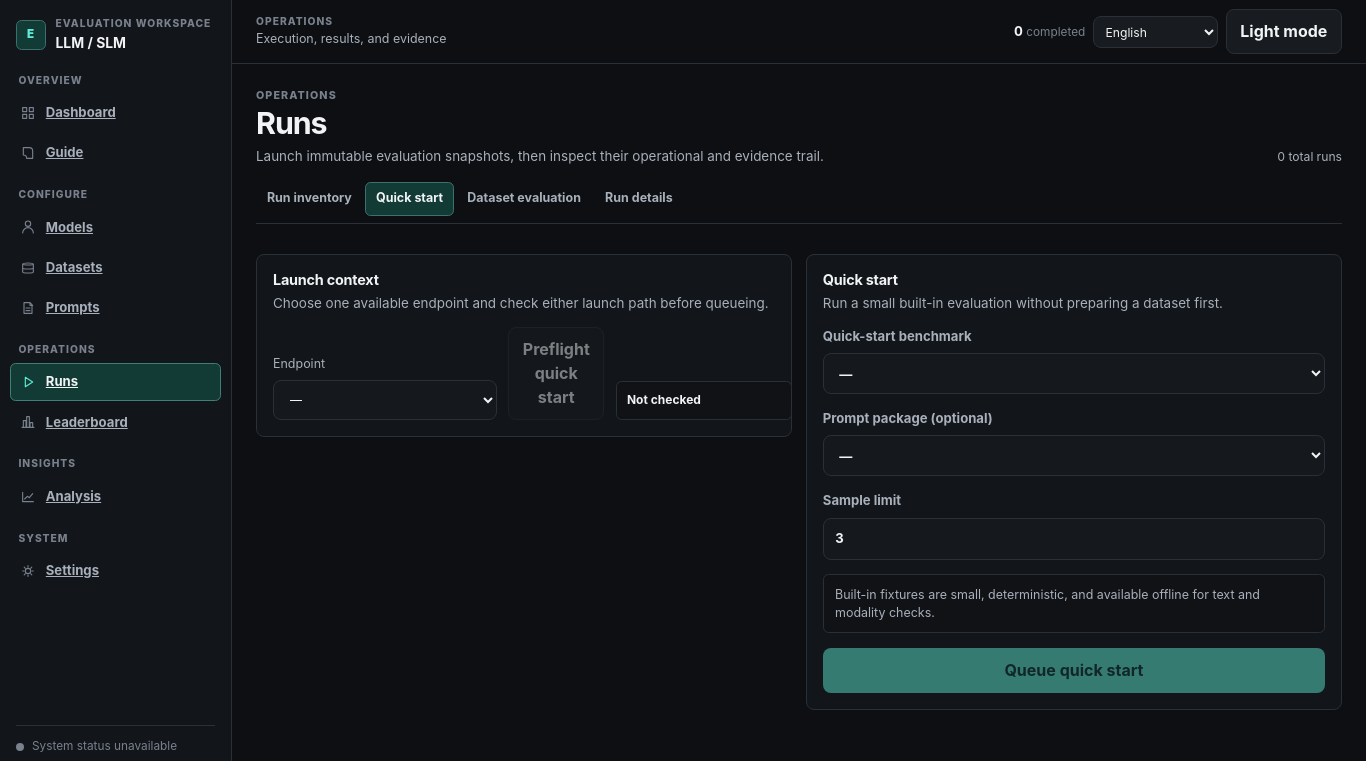
Test: workspace tab routing › canonicalizes the legacy launcher and keeps both launch tabs isolated
Check: the dropdown labelled "Quick-start benchmark" is shown, box [823,353,1325,394]
Click the tab "Dataset evaluation" at (524, 199), box [456,182,592,216]
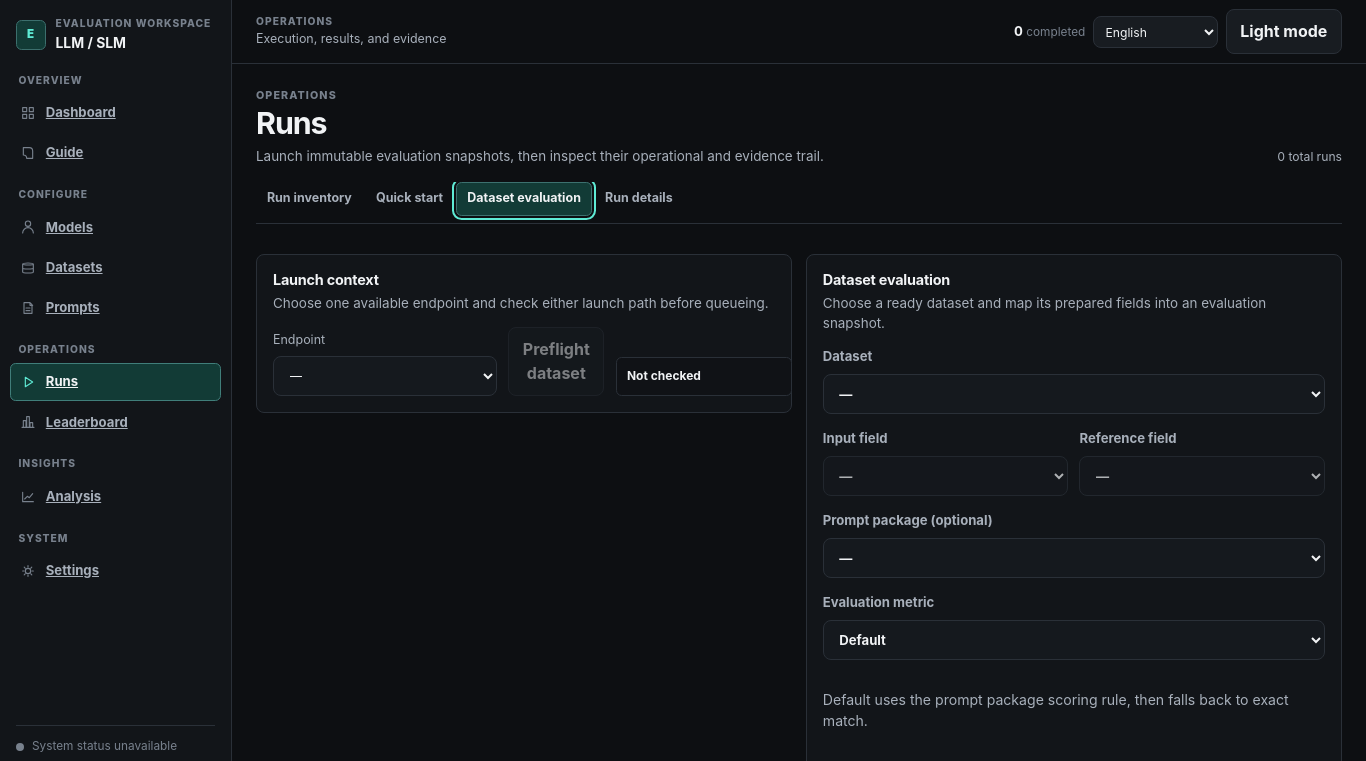
Check: the dropdown labelled "Dataset" is shown, box [823,374,1325,414]
Check: the label labelled "Quick-start benchmark" is gone
